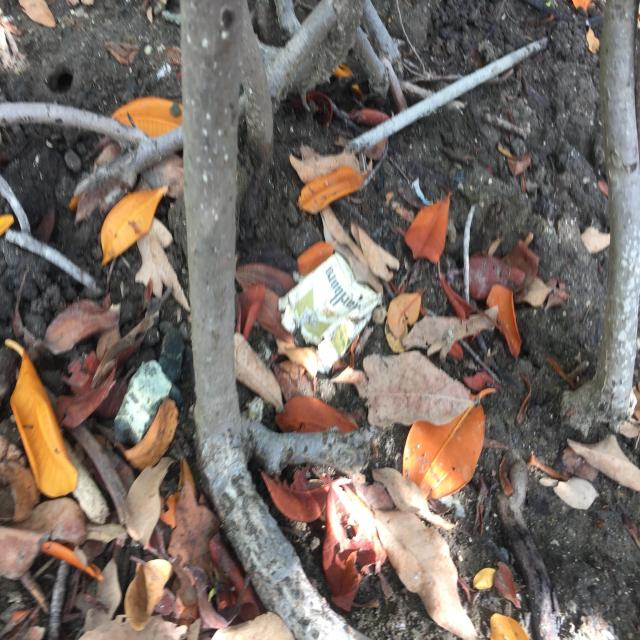litter: (284, 253, 376, 371)
